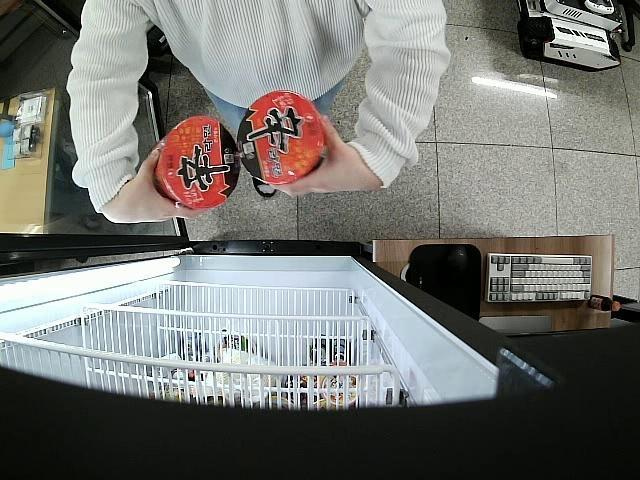01_ShinRamen_L: (238, 90, 325, 182), (157, 116, 240, 210)
